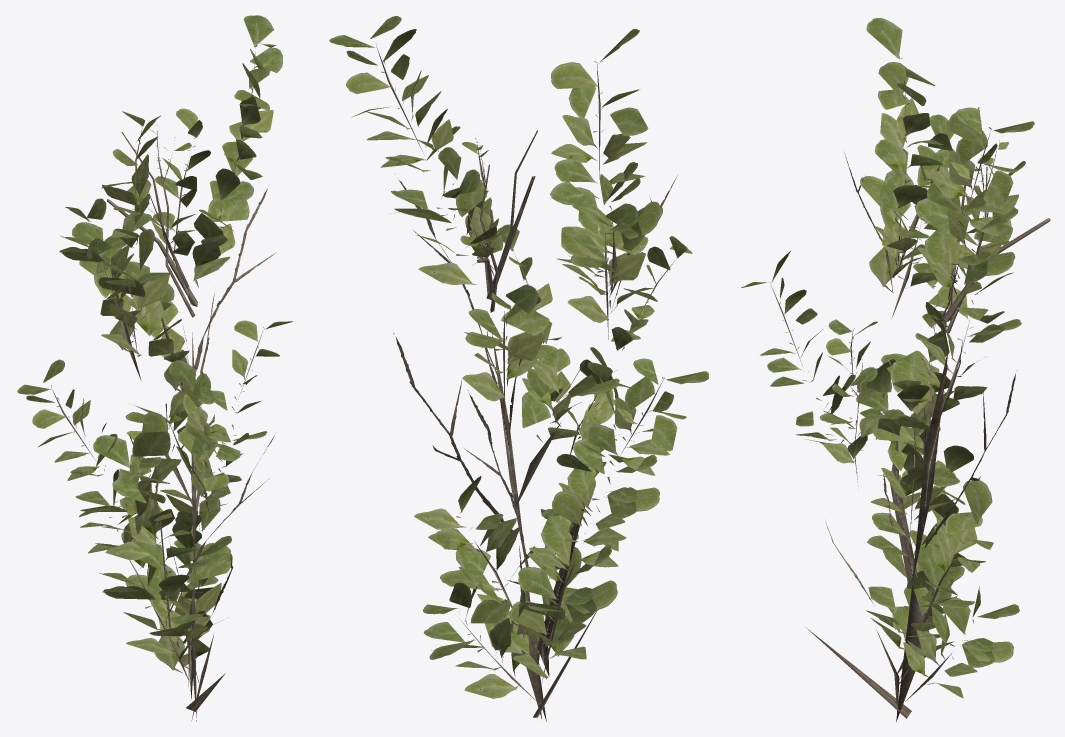
The picture shows the model from 3 angles, left to right: view 1: azimuth 30°, elevation 25°; view 2: azimuth 150°, elevation 25°; view 3: azimuth 270°, elevation 25°; orthographic projection. The views are drawn at different scales.
Parts seen in each view (by area): view 1: searsia_lucida__d_lod1; view 2: searsia_lucida__d_lod1; view 3: searsia_lucida__d_lod1.
Boxes of the visible parts, left/top/right/bottom form: searsia_lucida__d_lod1: left=17, top=15, right=292, bottom=721; searsia_lucida__d_lod1: left=329, top=16, right=708, bottom=721; searsia_lucida__d_lod1: left=741, top=18, right=1050, bottom=722.
Bounding box in the file's own units: 0.3886 × 0.7826 × 0.3311.
Materials: 2 (2 with a texture image).
